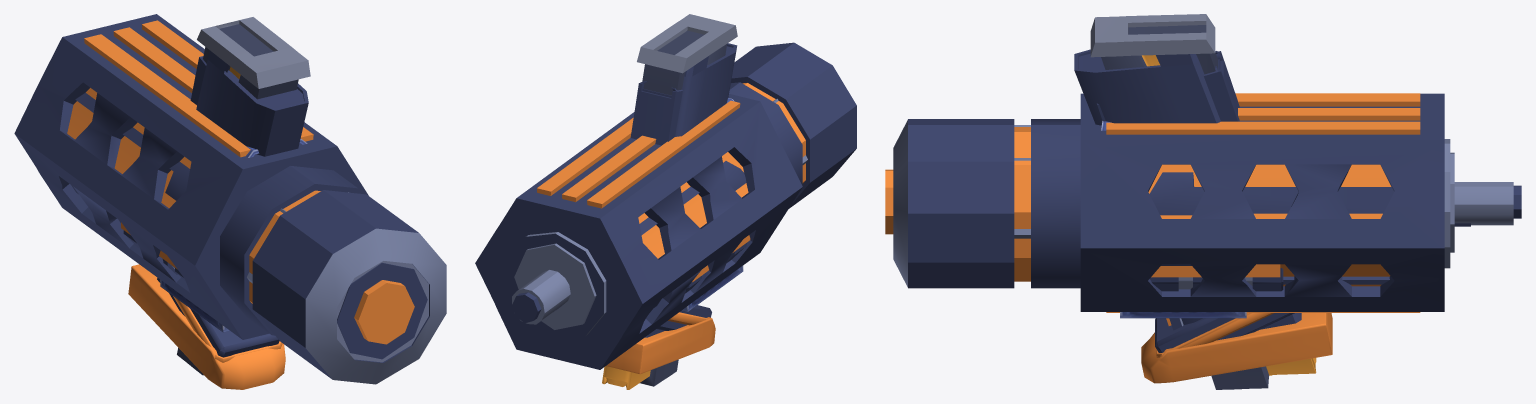
Rendered from Gun_Parts_Final.FBX.
The picture shows the model from 3 angles, left to right: view 1: azimuth 30°, elevation 25°; view 2: azimuth 150°, elevation 25°; view 3: azimuth 270°, elevation 25°; orthographic projection. The views are drawn at different scales.
Parts seen in each view (by area): view 1: Silencer-3, Silencer-5, Magzine-2, Magzine-3, Magzine-5, Magzine-4, Stylized_Pistol_Scope-1; view 2: Silencer-3, Silencer-5, Magzine-5, Magzine-2, Magzine-4, Magzine-3, Stylized_Pistol_Scope-1, Pistol_Part-2; view 3: Silencer-3, Silencer-5, Magzine-2, Magzine-5, Magzine-3, Magzine-4, Pistol_Part-2, Stylized_Pistol_Scope-1.
Boxes of the visible parts, x1=… form: Silencer-3: x1=14, y1=14, x2=427, y2=359; Silencer-5: x1=71, y1=92, x2=446, y2=384; Magzine-2: x1=157, y1=50, x2=308, y2=282; Magzine-3: x1=128, y1=264, x2=285, y2=389; Magzine-5: x1=177, y1=17, x2=310, y2=375; Magzine-4: x1=169, y1=56, x2=282, y2=362; Stylized_Pistol_Scope-1: x1=160, y1=139, x2=307, y2=332; Silencer-3: x1=475, y1=94, x2=807, y2=369; Silencer-5: x1=508, y1=42, x2=856, y2=339; Magzine-5: x1=602, y1=14, x2=737, y2=389; Magzine-2: x1=645, y1=43, x2=737, y2=337; Magzine-4: x1=630, y1=81, x2=711, y2=330; Magzine-3: x1=606, y1=317, x2=715, y2=374; Stylized_Pistol_Scope-1: x1=681, y1=98, x2=743, y2=312; Pistol_Part-2: x1=685, y1=235, x2=750, y2=293; Silencer-3: x1=885, y1=93, x2=1521, y2=312; Silencer-5: x1=893, y1=119, x2=1513, y2=288; Magzine-2: x1=1074, y1=49, x2=1301, y2=329; Magzine-5: x1=1090, y1=14, x2=1316, y2=389; Magzine-3: x1=1141, y1=313, x2=1332, y2=383; Magzine-4: x1=1097, y1=51, x2=1294, y2=357; Pistol_Part-2: x1=1150, y1=264, x2=1283, y2=291; Stylized_Pistol_Scope-1: x1=1101, y1=121, x2=1246, y2=318.
Size of the model in its own units: 11.04 by 19.61 by 31.98.
3 materials, 3 textured.
